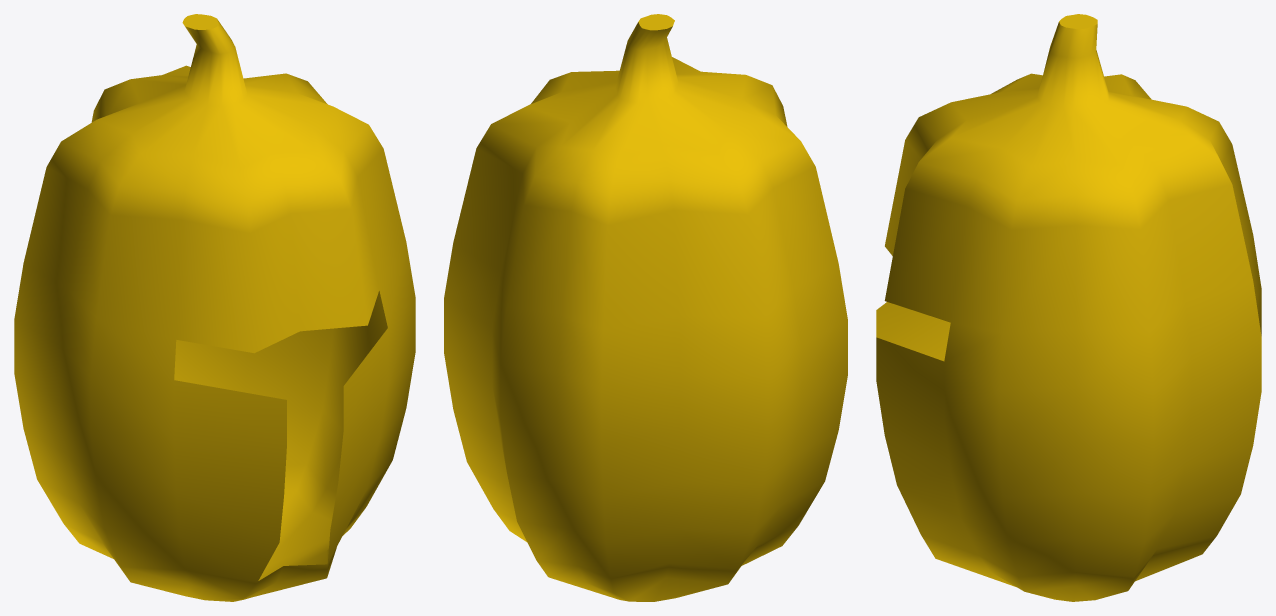
Rendered from GhostKnight.fbx.
3 renders of one model, left to right at view 1: azimuth 30°, elevation 25°; view 2: azimuth 150°, elevation 25°; view 3: azimuth 270°, elevation 25°, orthographic.
Visible parts, largest first — view 1: KnightGhost; view 2: KnightGhost; view 3: KnightGhost.
Boxes of the visible parts, <box> form: KnightGhost: <box>14,14,415,601</box>; KnightGhost: <box>444,14,847,601</box>; KnightGhost: <box>876,14,1261,601</box>.
Size of the model in its own units: 1.36 by 2.24 by 1.41.
